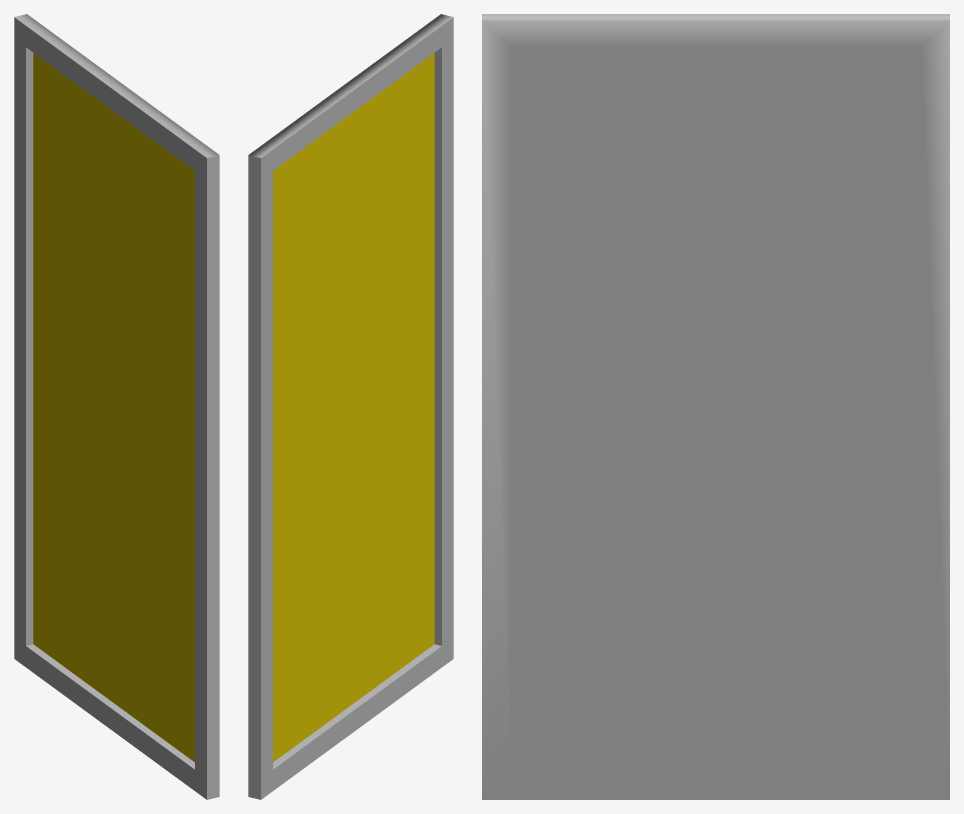
File: windowTile.fbx
The picture shows the model from 3 angles, left to right: view 1: azimuth 30°, elevation 25°; view 2: azimuth 150°, elevation 25°; view 3: azimuth 270°, elevation 25°; orthographic projection. The views are drawn at different scales.
Visible parts, largest first — view 1: windowTile; view 2: windowTile; view 3: windowTile.
Boxes of the visible parts, <box> form: windowTile: <box>14,14,219,799</box>; windowTile: <box>248,14,453,799</box>; windowTile: <box>482,14,949,799</box>.
Size of the model in its own units: 4.69 by 225 by 123.
